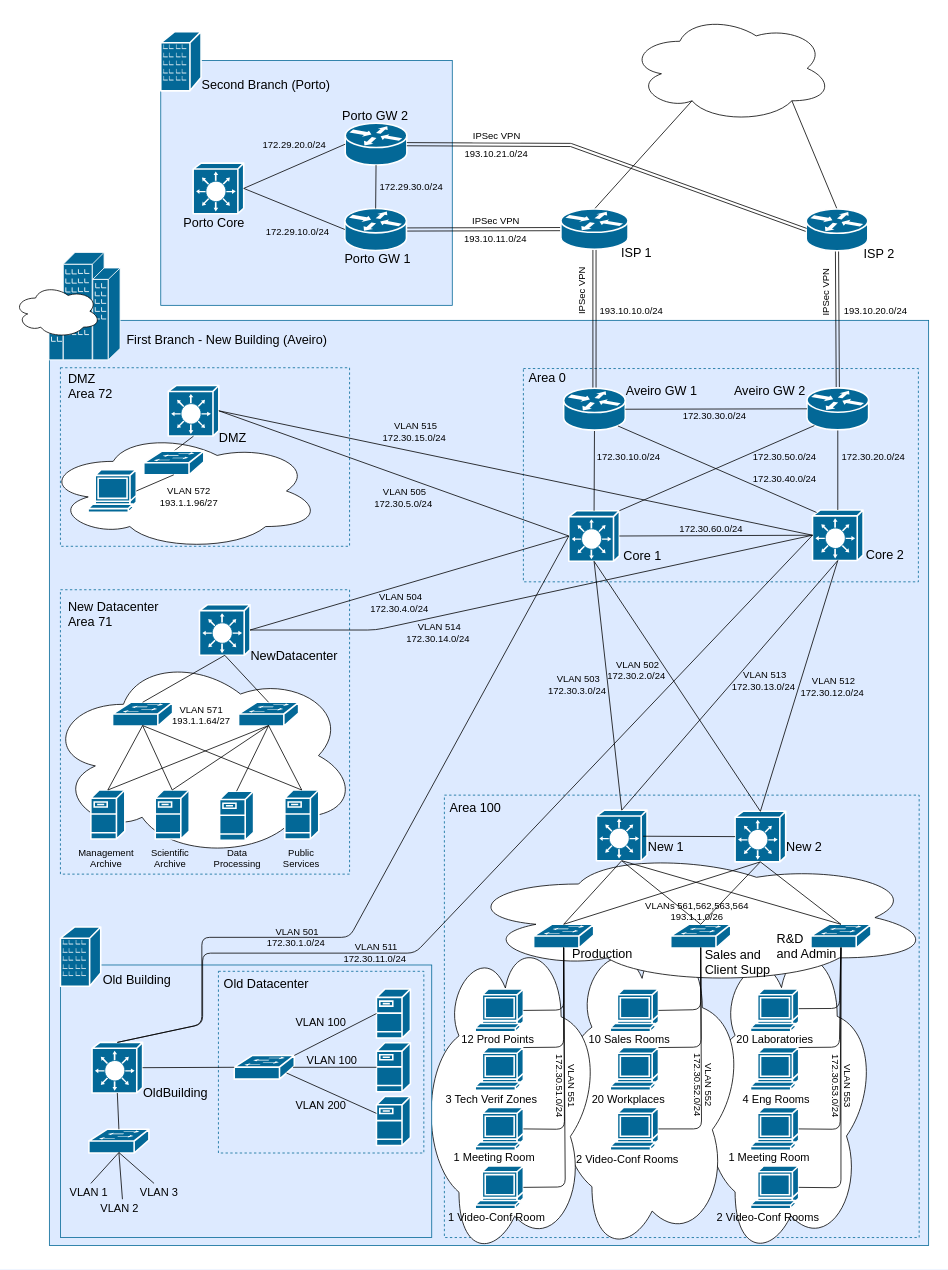
The diagram is 948 pixels wide and 1270 high, and some of its shapes have lost their labels. The centre of each missing label's shape, as x and y in pixels:
INTERNET 0.0.0.0/0: point 730,67
Wi-Fi VLAN 573 172.30.100.0/14: point 57,311
